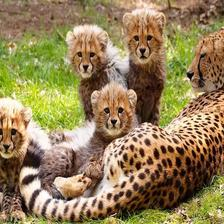Cheetah: (19, 22, 223, 224), (38, 83, 138, 198), (62, 24, 129, 140), (122, 6, 168, 134), (0, 98, 34, 221)
